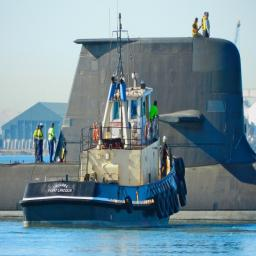submarine: (1, 38, 256, 220)
